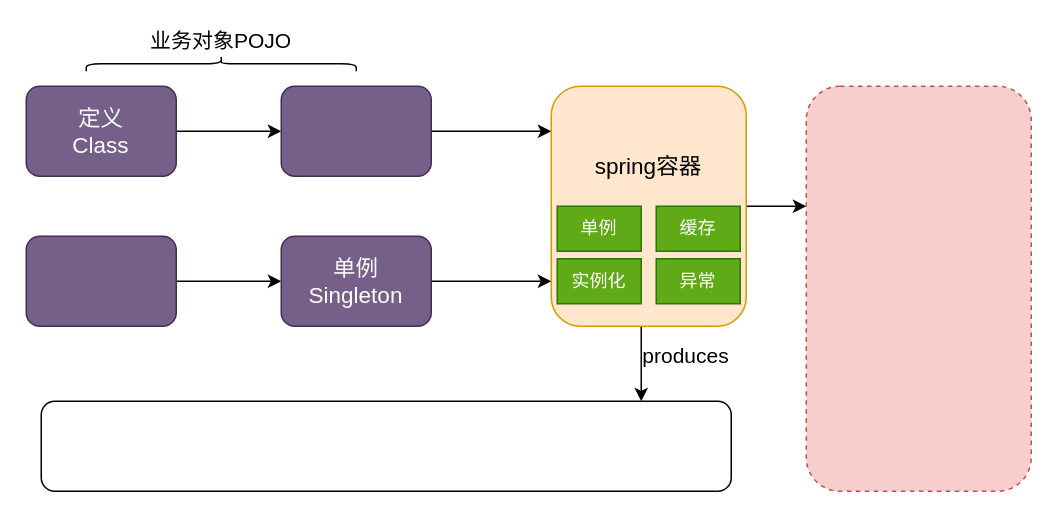
Image size: 1058x518. Some labels were removed from this diagram. Each missing label, with the centre of its shape:
fully configured system ready for use: (x=385, y=445)
哈希容器桶: (x=918, y=288)
注册 Register: (x=355, y=130)
获取 Get: (x=100, y=280)
